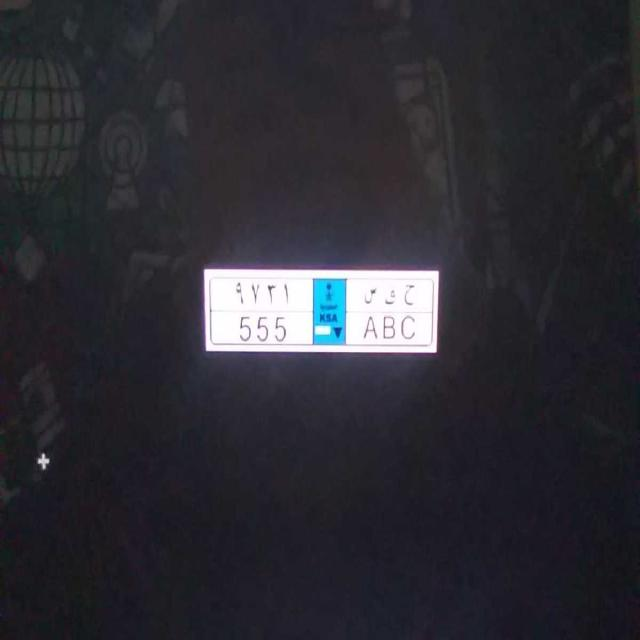license_plate: (220, 309, 428, 352)
